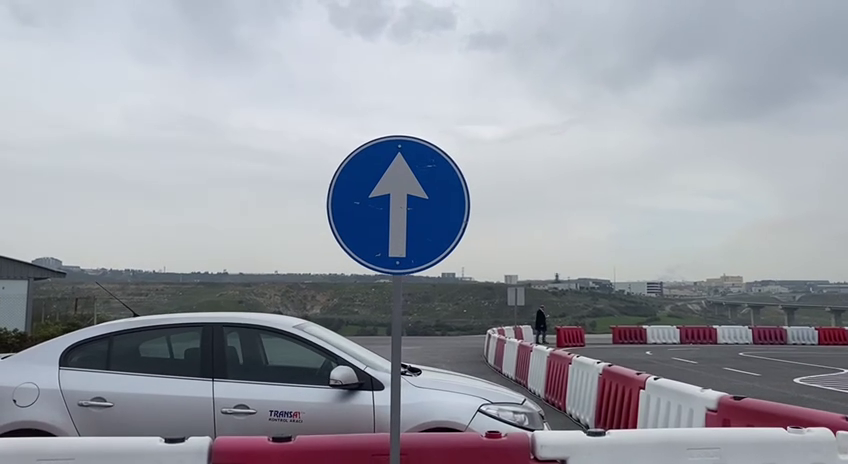forward: (324, 130, 474, 277)
